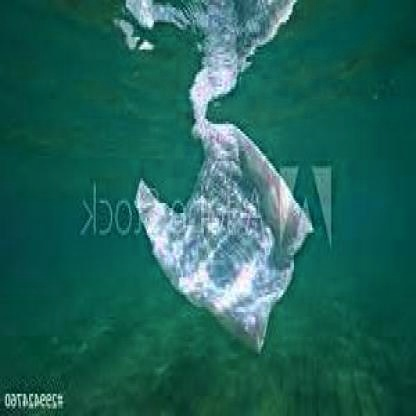pbag: (133, 117, 315, 356)
